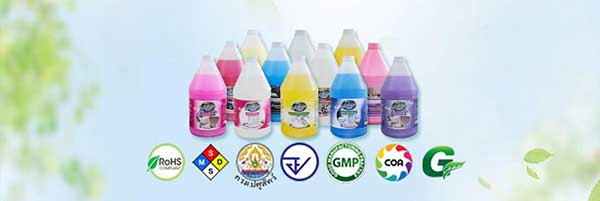Cleaning_solution: (277, 52, 321, 142), (231, 53, 275, 143), (327, 54, 371, 142), (186, 49, 228, 139), (380, 54, 421, 143)
